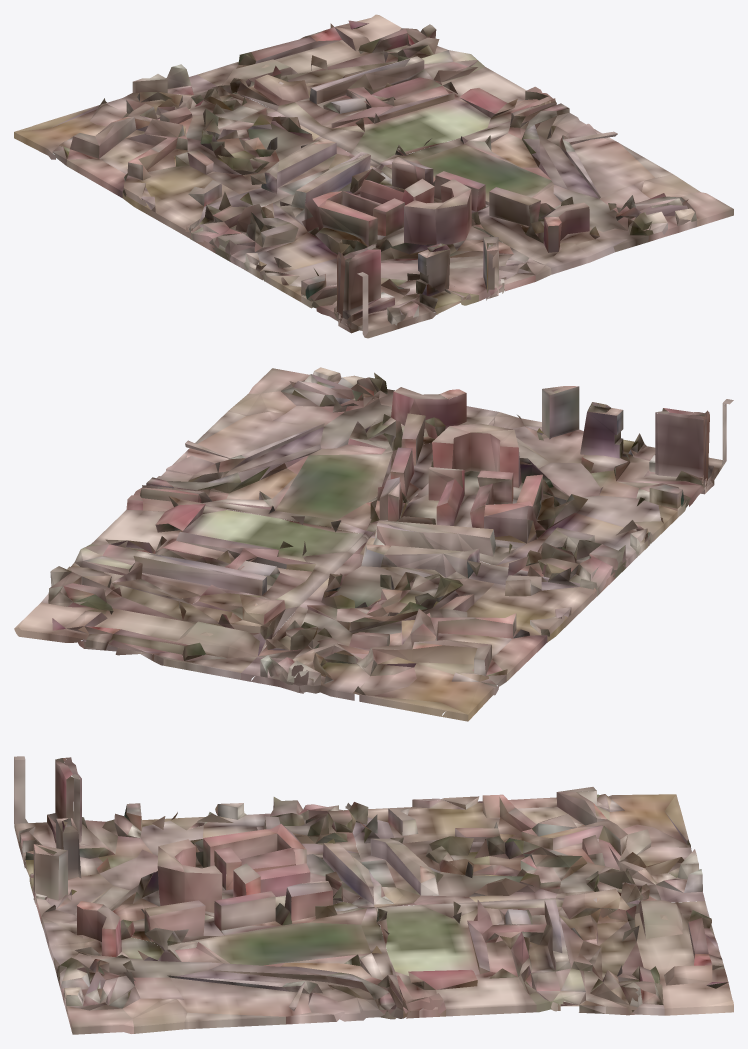
3 renders of one model, top to bottom at view 1: azimuth 30°, elevation 25°; view 2: azimuth 150°, elevation 25°; view 3: azimuth 270°, elevation 25°, orthographic. The views are drawn at different scales.
Visible parts, largest first — view 1: Mesh_0; view 2: Mesh_0; view 3: Mesh_0.
Boxes of the visible parts, x1,y1,x2,y2 form: Mesh_0: (14,14,733,338); Mesh_0: (14,367,733,721); Mesh_0: (14,756,733,1034).
Bounding box in the file's own units: 532 × 84.18 × 660.
2 materials, 2 textured.
